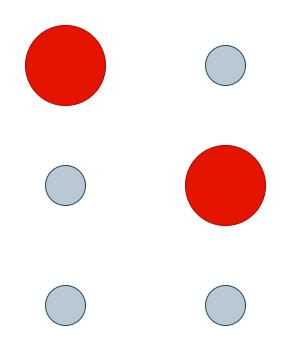E: (20, 20, 272, 338)
